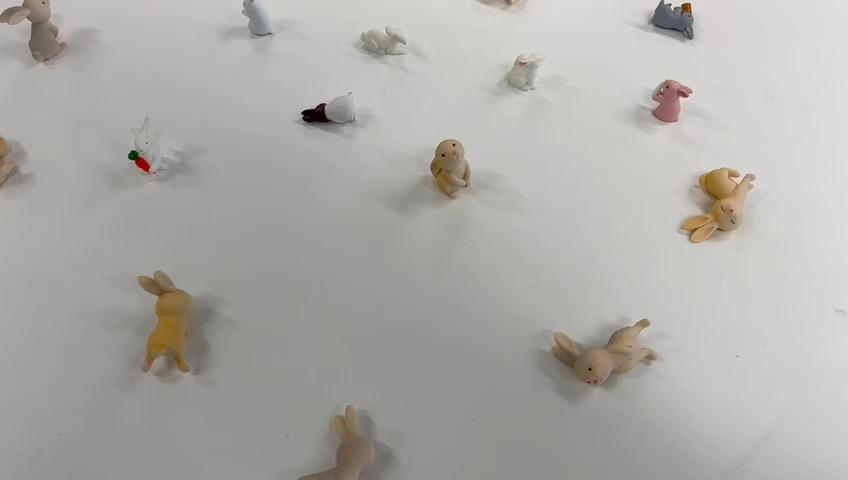pet: (258, 395, 400, 480), (526, 313, 673, 392), (128, 248, 203, 385), (678, 163, 770, 268), (126, 118, 211, 199), (0, 0, 61, 76), (303, 75, 369, 143), (426, 118, 485, 194), (628, 0, 703, 53), (498, 43, 558, 108), (641, 75, 694, 134), (353, 15, 408, 68), (0, 120, 35, 203), (226, 0, 291, 40)
